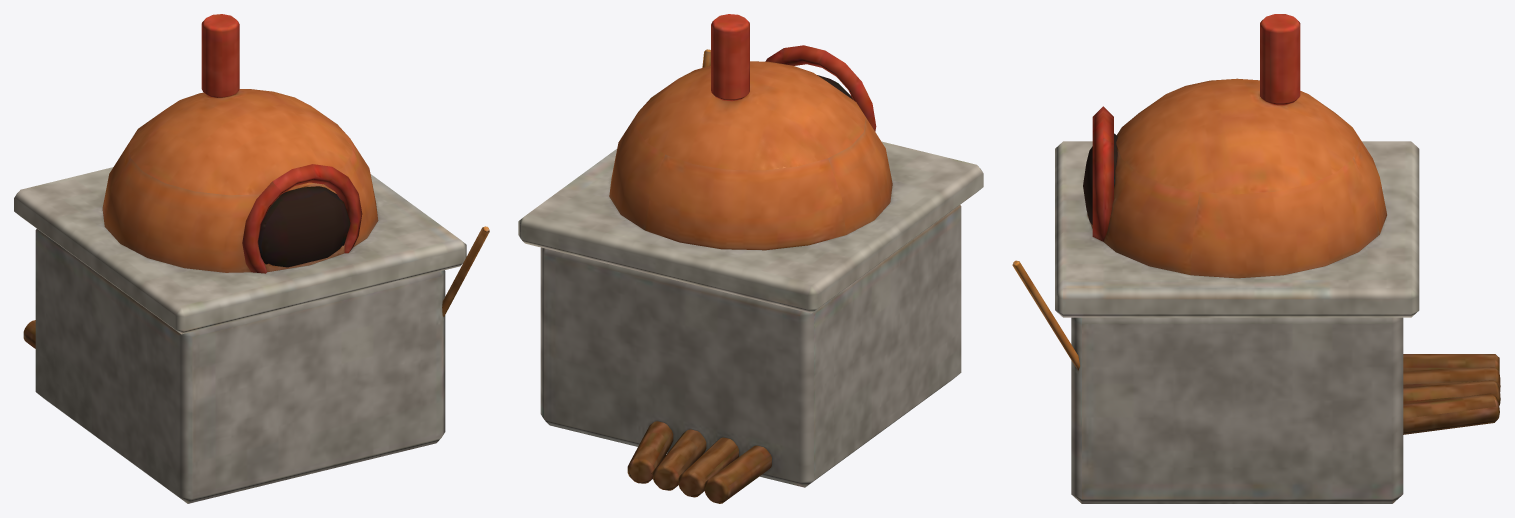
The model's file is outdoor_oven.glb.
3 views of the same model, side by side, from view 1: azimuth 30°, elevation 25°; view 2: azimuth 150°, elevation 25°; view 3: azimuth 270°, elevation 25° (orthographic). The views are drawn at different scales.
Visible parts, largest first — view 1: outdoor_oven; view 2: outdoor_oven; view 3: outdoor_oven.
Boxes of the visible parts, x1,y1,x2,y2 form: outdoor_oven: (14, 14, 489, 503); outdoor_oven: (518, 14, 983, 503); outdoor_oven: (1012, 14, 1500, 503).
Size of the model in its own units: 0.683 by 0.86 by 0.9114.
Materials: 1 (1 with a texture image).
